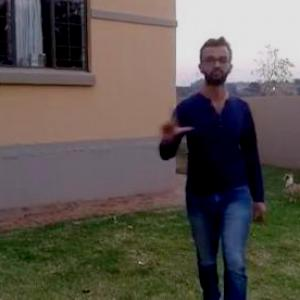land_hand: (149, 92, 197, 144)
